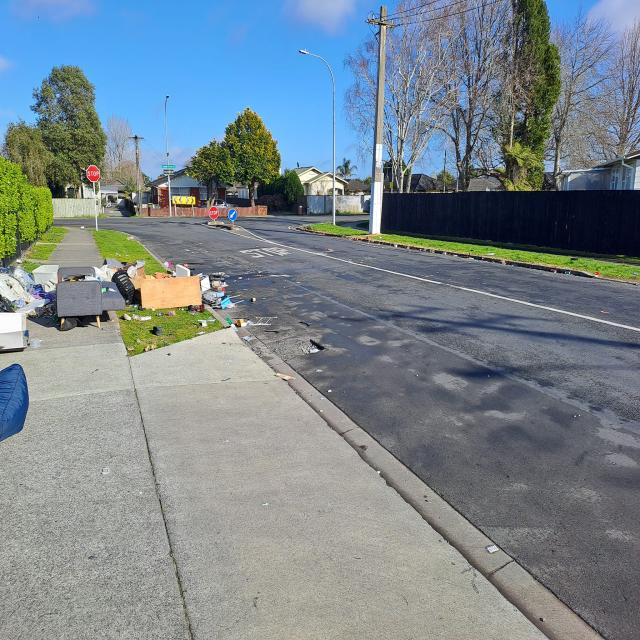dumping: (3, 198, 244, 382)
